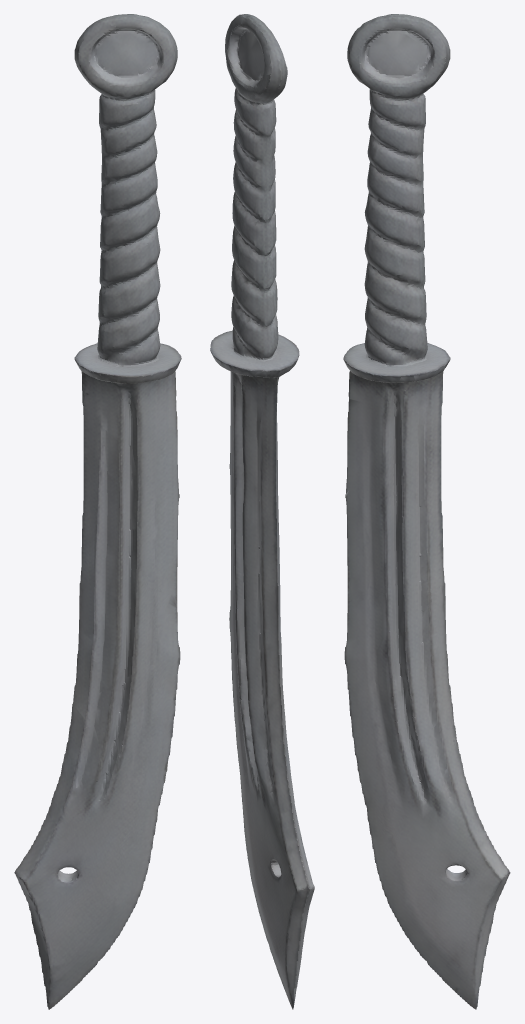
The model's file is dadao_ref.glb.
3 views of the same model, side by side, from view 1: azimuth 90°, elevation 25°; view 2: azimuth 210°, elevation 25°; view 3: azimuth 270°, elevation 25° (orthographic). The views are drawn at different scales.
Visible parts, largest first — view 1: model; view 2: model; view 3: model.
Part boxes in pixels (x1,y1,x2,y2): model: [14, 14, 181, 1009]; model: [210, 14, 314, 1009]; model: [343, 14, 510, 1009].
Bounding box in the file's own units: 0.1365 × 1.7 × 0.2595.
1 material, 1 textured.
